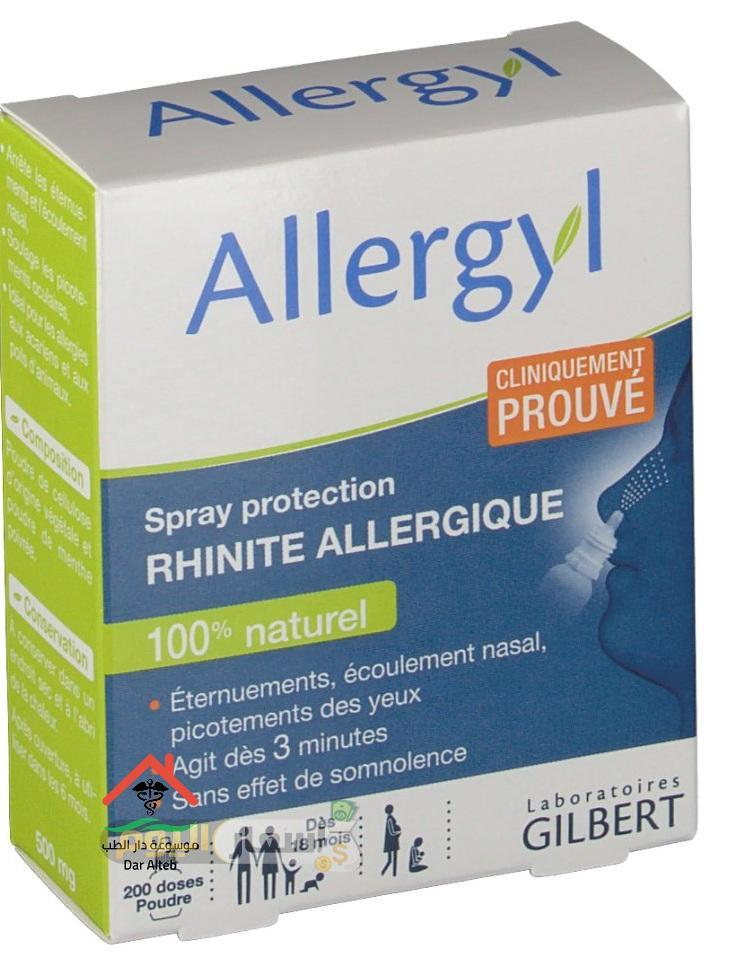Medicine: (20, 27, 718, 917)
